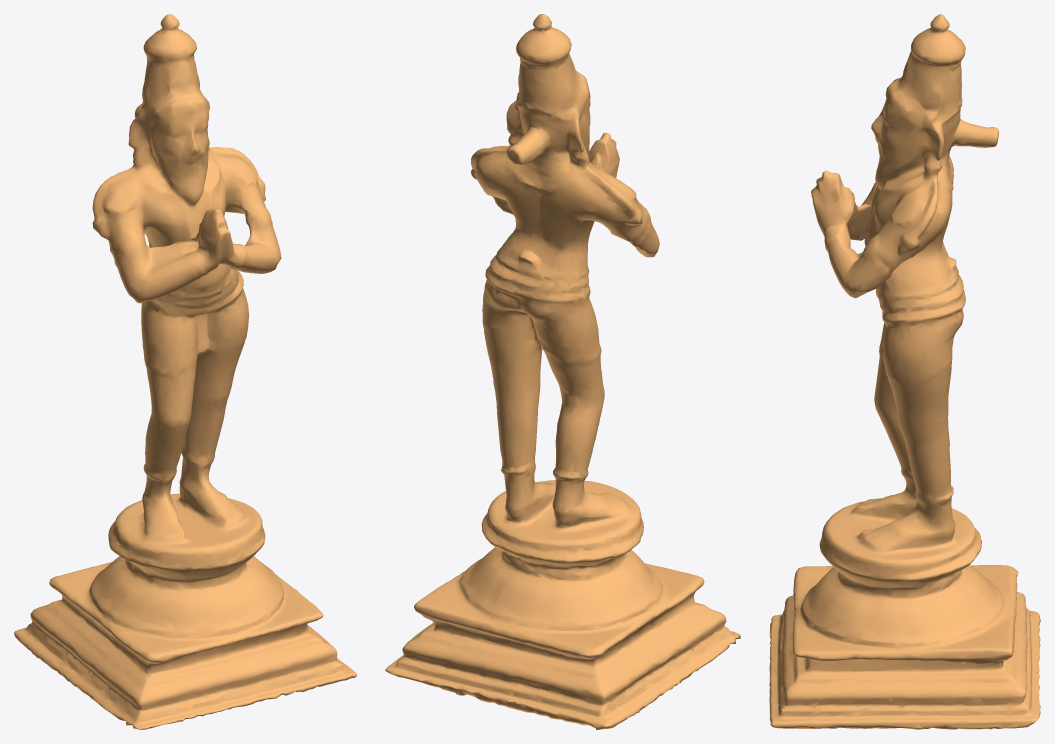
Rendered from Sidhargal_&_Munivargal_Viyakkarabadhar_03.glb.
The picture shows the model from 3 angles, left to right: view 1: azimuth 30°, elevation 25°; view 2: azimuth 150°, elevation 25°; view 3: azimuth 270°, elevation 25°; orthographic projection. The views are drawn at different scales.
Visible parts, largest first — view 1: Sidhargal_&_Munivargal_Viyakkarabadhar_03; view 2: Sidhargal_&_Munivargal_Viyakkarabadhar_03; view 3: Sidhargal_&_Munivargal_Viyakkarabadhar_03.
Part boxes in pixels (x1,y1,x2,y2): Sidhargal_&_Munivargal_Viyakkarabadhar_03: (14,14,356,729); Sidhargal_&_Munivargal_Viyakkarabadhar_03: (385,14,740,729); Sidhargal_&_Munivargal_Viyakkarabadhar_03: (769,14,1040,729).
Bounding box in the file's own units: 0.3467 × 0.9286 × 0.3466.
